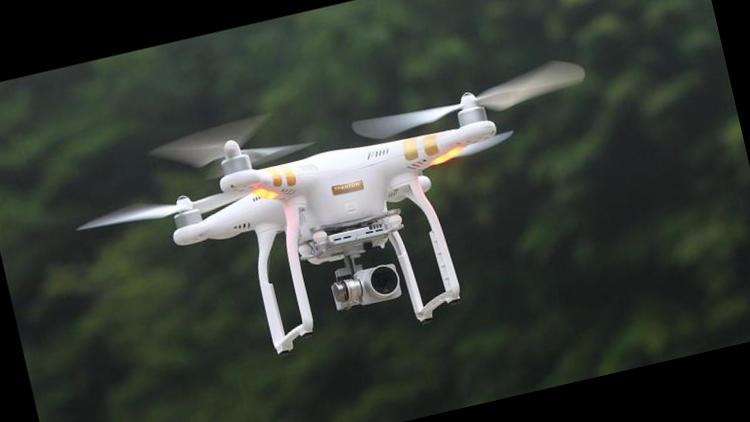drone: (92, 36, 608, 319)
